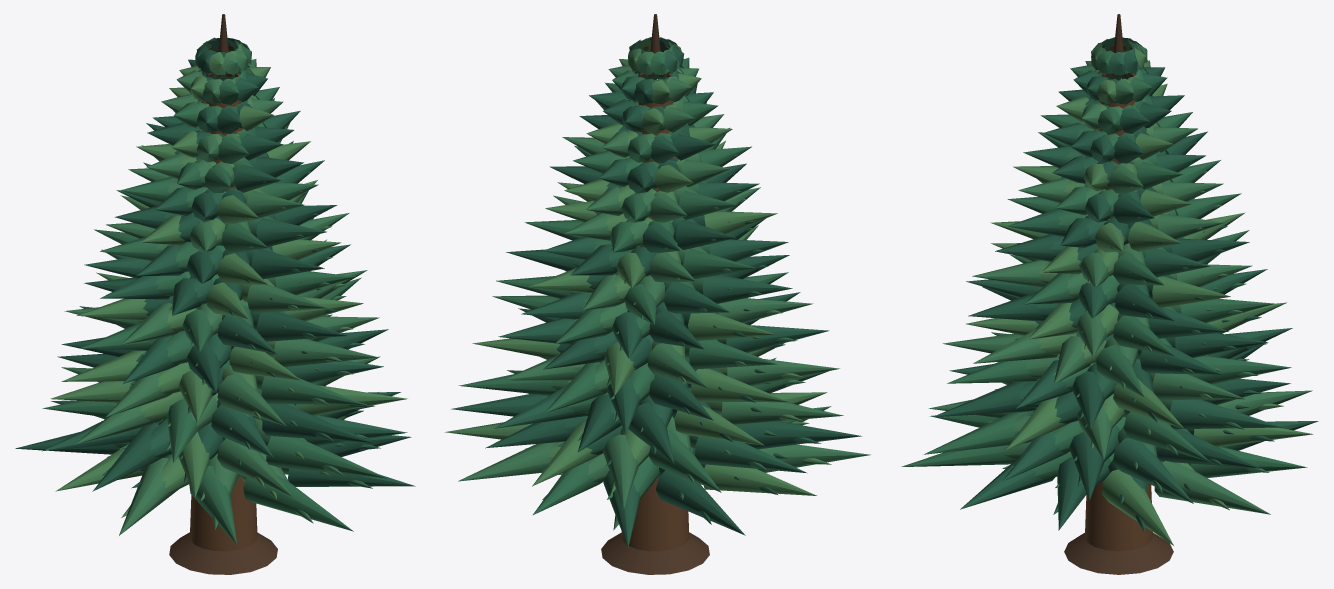
Rendered from pine_l05.glb.
3 renders of one model, left to right at view 1: azimuth 30°, elevation 25°; view 2: azimuth 150°, elevation 25°; view 3: azimuth 270°, elevation 25°, orthographic.
Parts seen in each view (by area): view 1: needle_sprays_2, needle_sprays_3, needle_sprays_1, needle_sprays_4, needle_sprays_5, tapered_trunk, root_flare; view 2: needle_sprays_2, needle_sprays_5, needle_sprays_4, needle_sprays_1, needle_sprays_3, tapered_trunk, root_flare; view 3: needle_sprays_3, needle_sprays_4, needle_sprays_5, needle_sprays_2, needle_sprays_1, tapered_trunk, root_flare.
Boxes of the visible parts, bbox=[...] form: needle_sprays_2: bbox=[61, 37, 380, 535]; needle_sprays_3: bbox=[42, 39, 386, 544]; needle_sprays_1: bbox=[50, 37, 407, 517]; needle_sprays_4: bbox=[42, 38, 415, 486]; needle_sprays_5: bbox=[15, 38, 411, 491]; tapered_trunk: bbox=[189, 100, 257, 551]; root_flare: bbox=[169, 532, 277, 574]; needle_sprays_2: bbox=[458, 37, 870, 509]; needle_sprays_5: bbox=[485, 39, 862, 535]; needle_sprays_4: bbox=[451, 39, 829, 547]; needle_sprays_1: bbox=[444, 38, 831, 495]; needle_sprays_3: bbox=[458, 37, 831, 530]; tapered_trunk: bbox=[621, 100, 689, 551]; root_flare: bbox=[601, 532, 709, 574]; needle_sprays_3: bbox=[901, 37, 1307, 493]; needle_sprays_4: bbox=[949, 37, 1318, 514]; needle_sprays_5: bbox=[933, 37, 1290, 532]; needle_sprays_2: bbox=[928, 39, 1312, 514]; needle_sprays_1: bbox=[966, 39, 1313, 545]; tapered_trunk: bbox=[1085, 100, 1152, 551]; root_flare: bbox=[1064, 533, 1173, 574].
Size of the model in its own units: 3.17 by 4.61 by 3.26.
